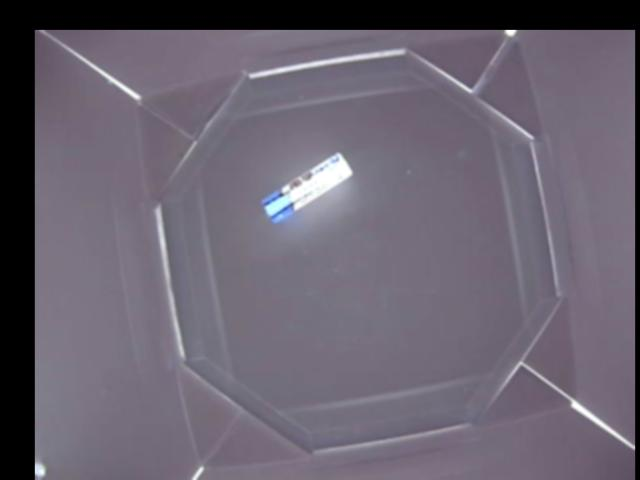Battery: (259, 151, 354, 224)
